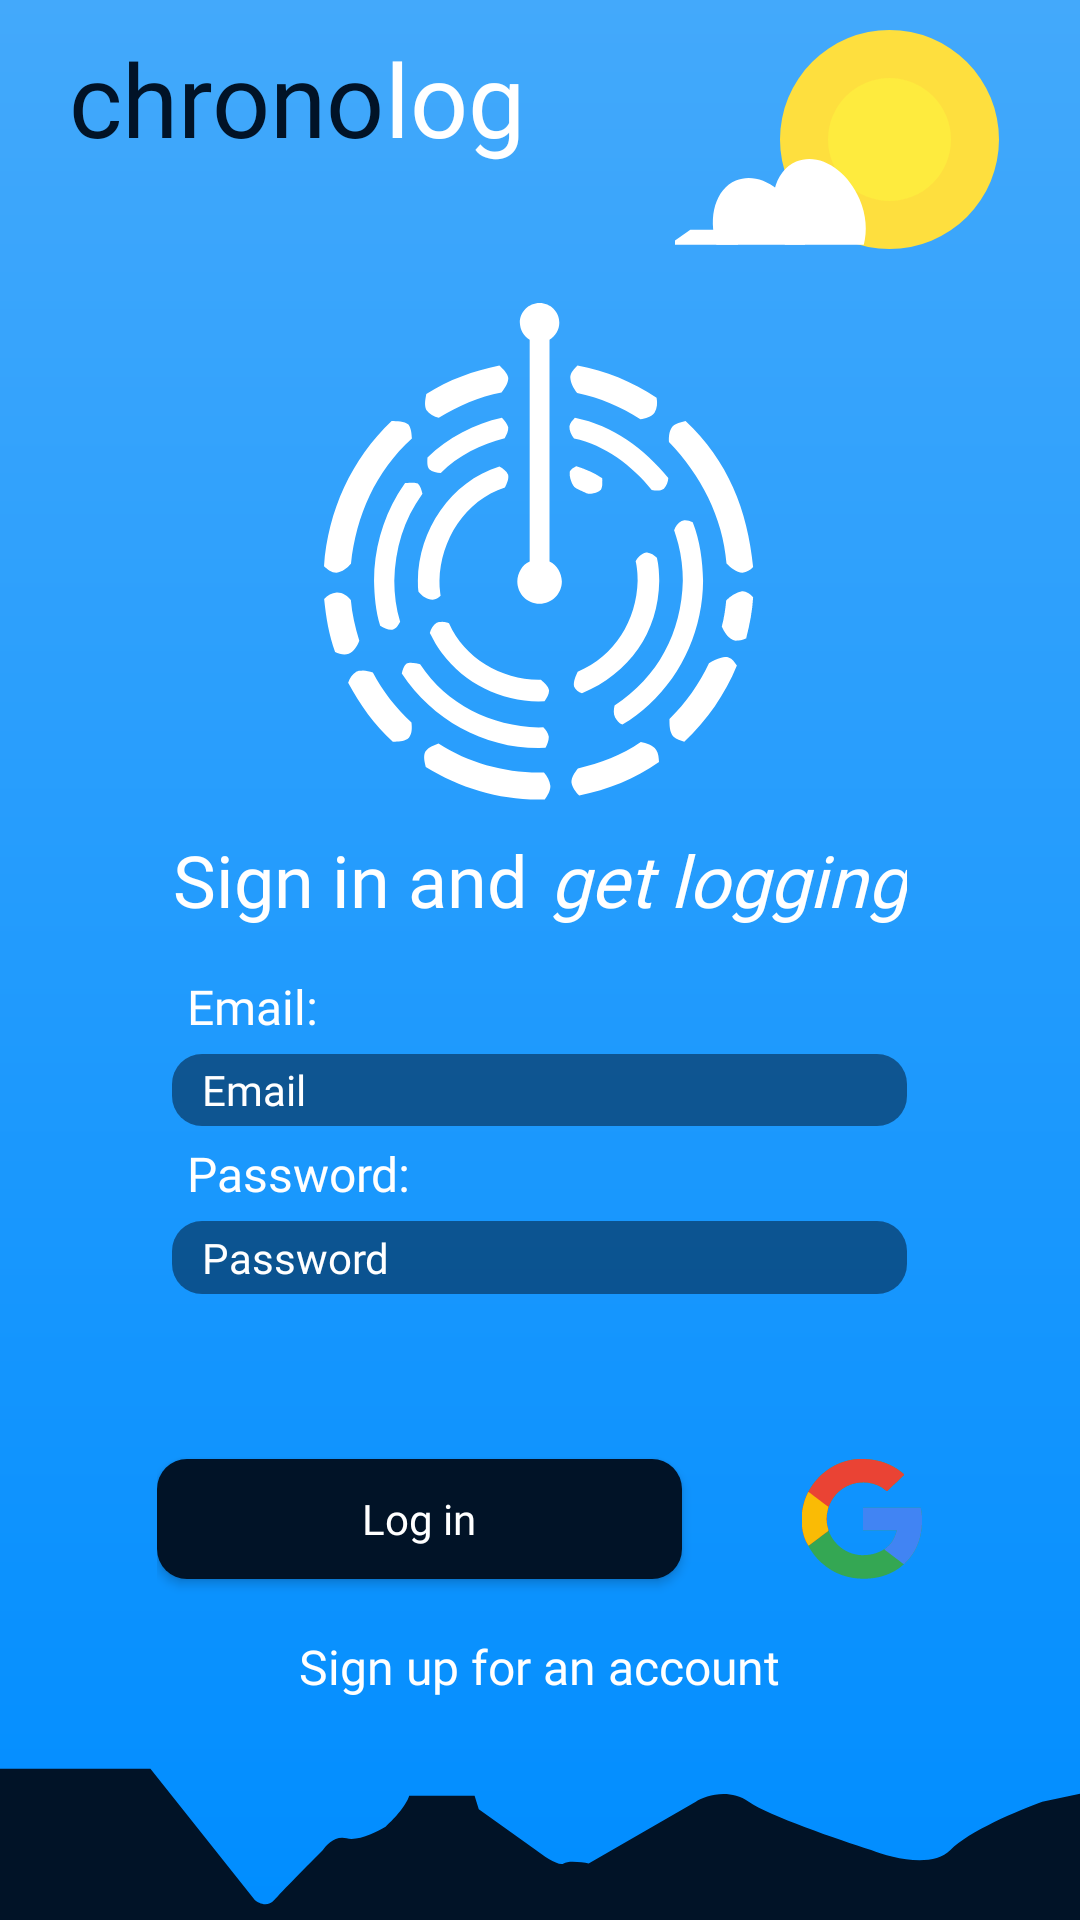

Named icons in this screenshot (1080×1920) and their centers, (x=x, y=y):
sun: (x=837, y=139)
